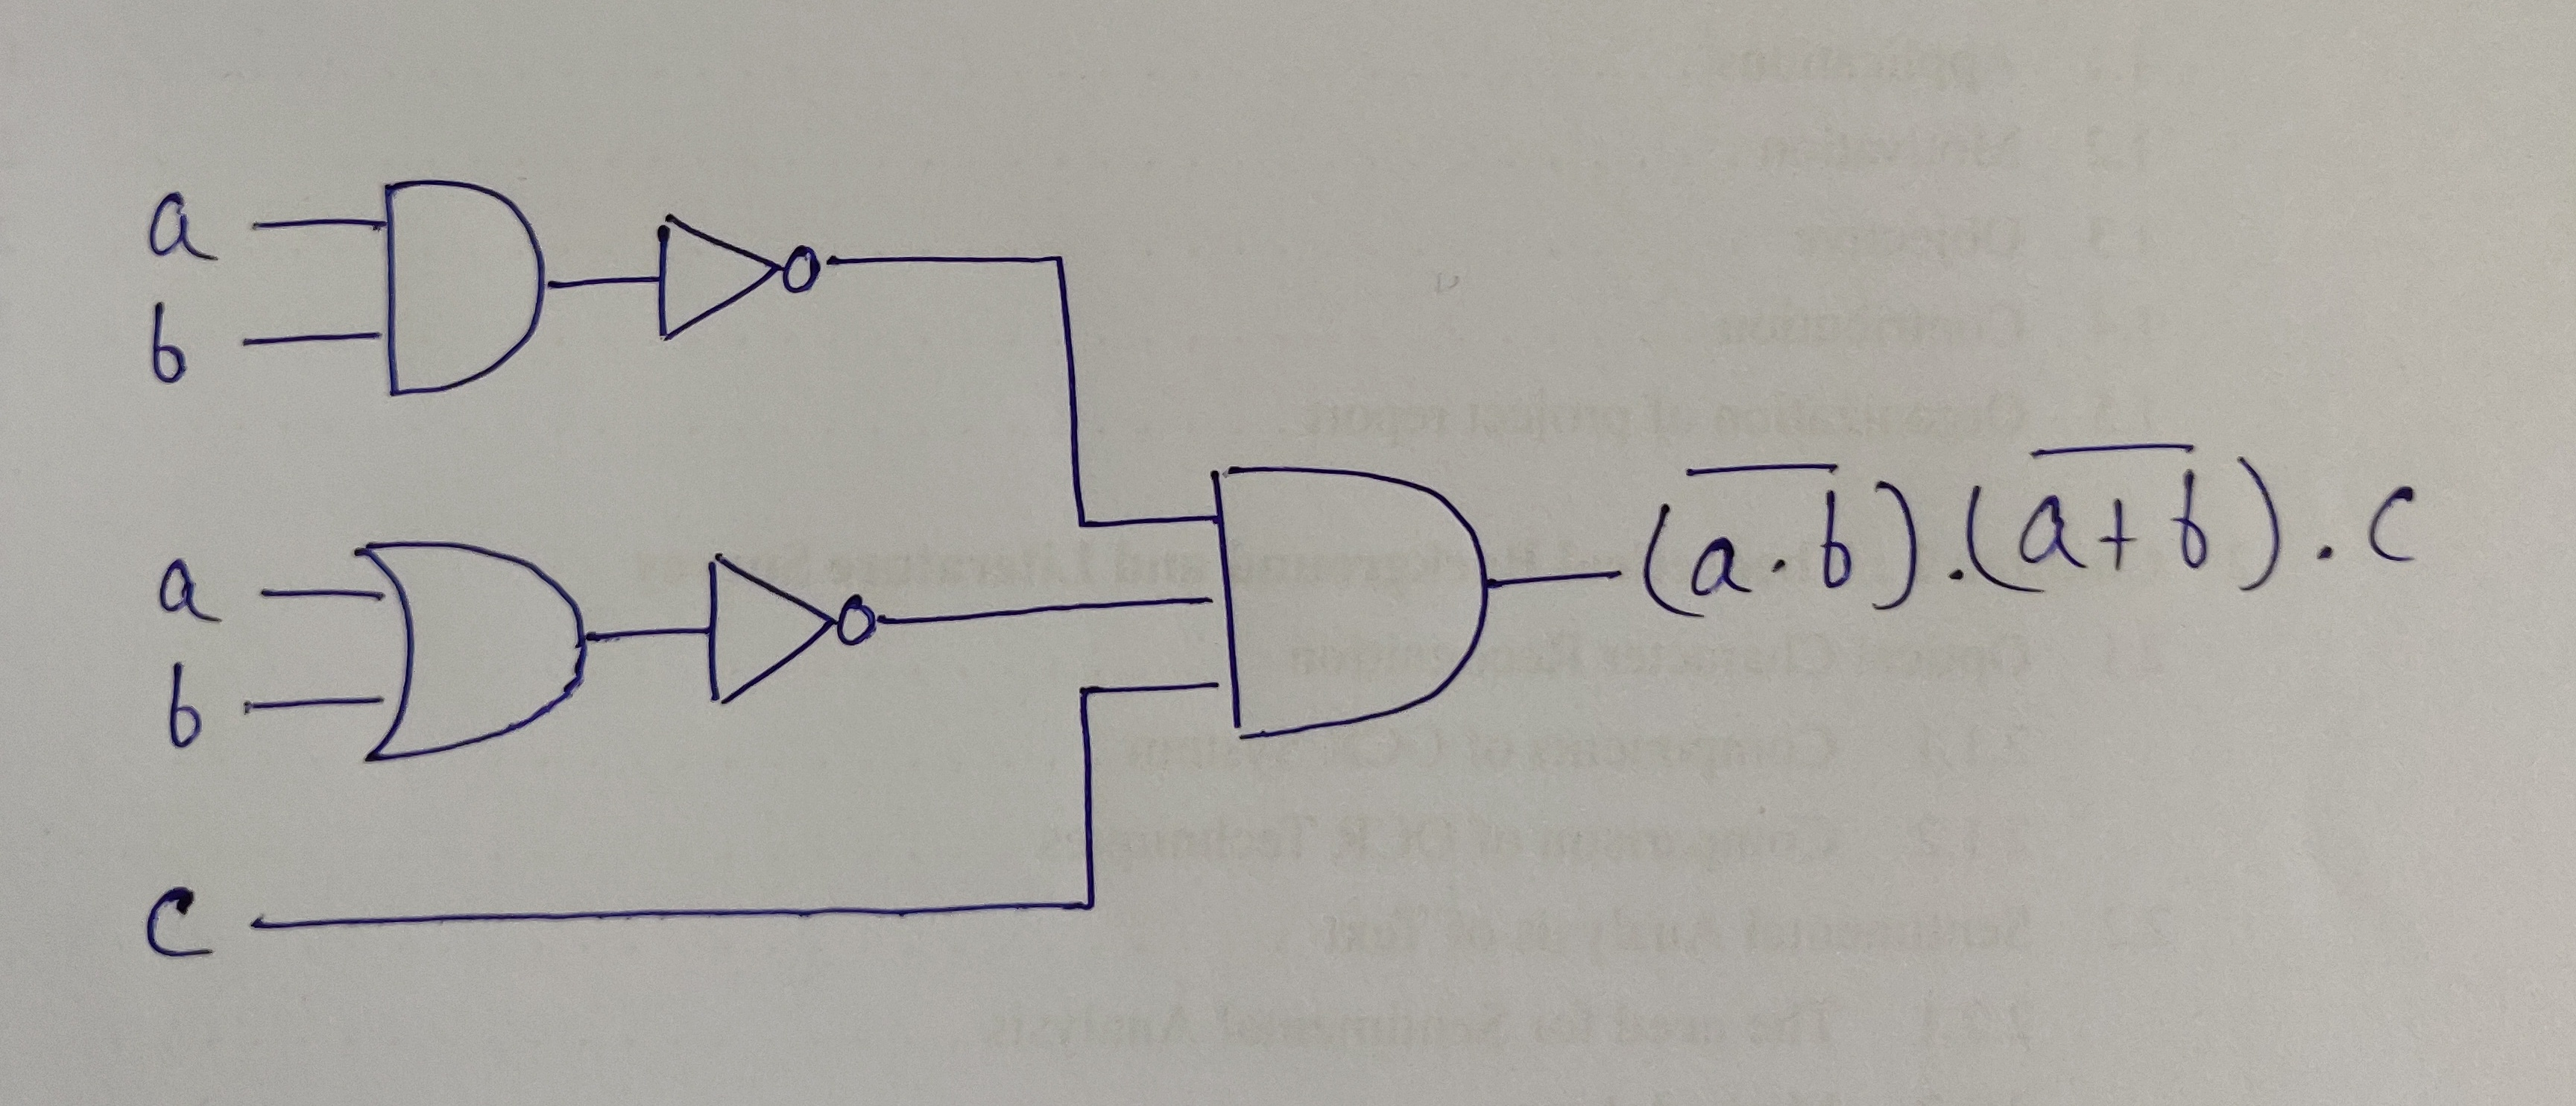and: (1165, 449, 1525, 749), (338, 151, 572, 408)
not: (678, 532, 879, 712), (639, 199, 831, 348)
or: (312, 496, 629, 759)
